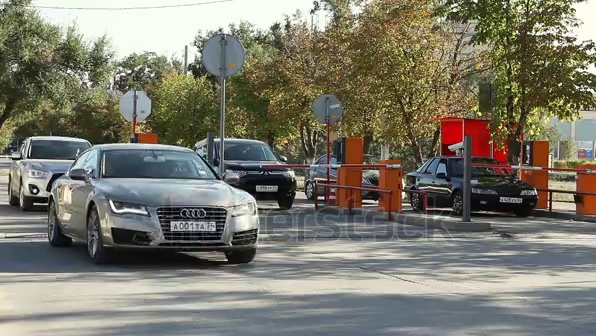licenseplate: (169, 221, 219, 232), (497, 196, 525, 207), (255, 181, 284, 189)
